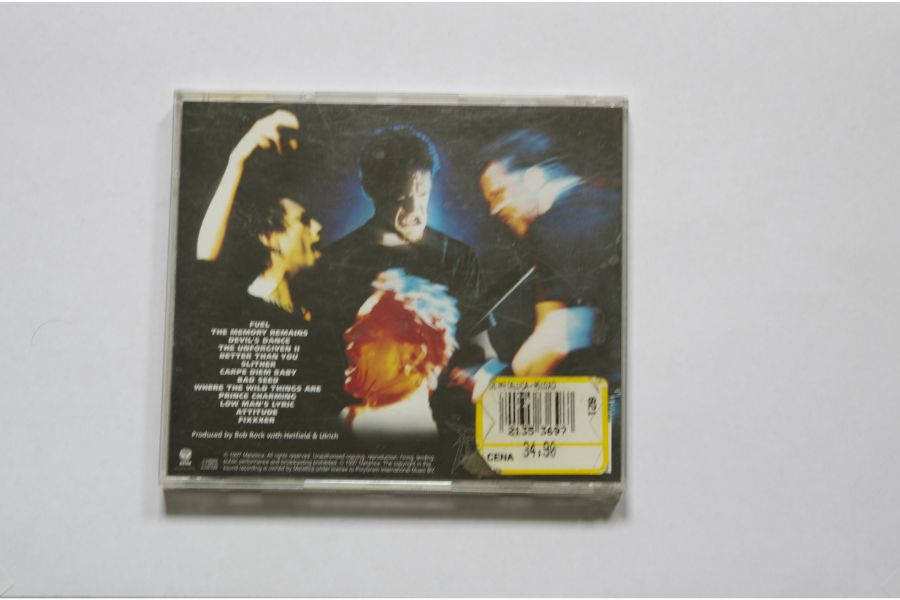album: (159, 88, 629, 498)
